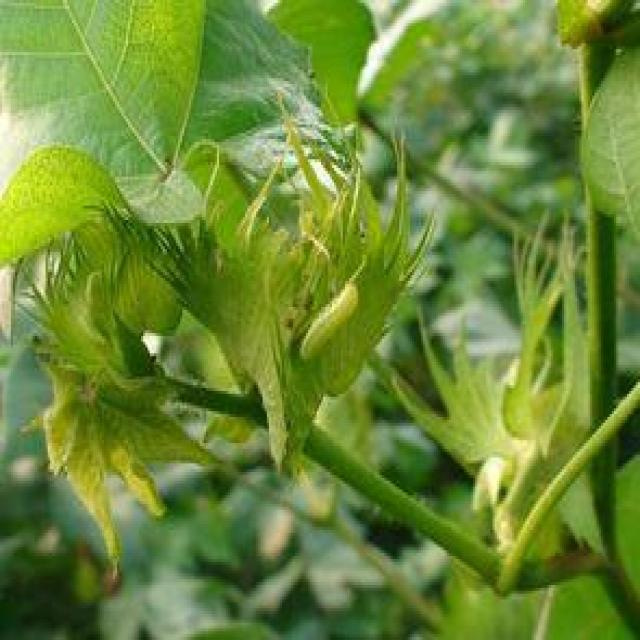BeetArmyWorm-Larva-: (295, 278, 363, 368)
